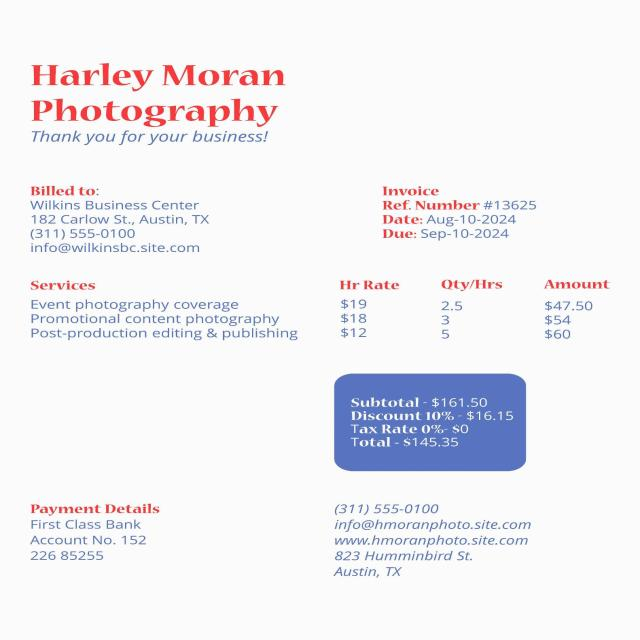paragraph: (315, 367, 541, 483), (23, 58, 292, 148), (322, 493, 540, 588), (23, 181, 240, 263), (352, 179, 565, 253), (15, 494, 178, 570)
table: (21, 270, 630, 350)
